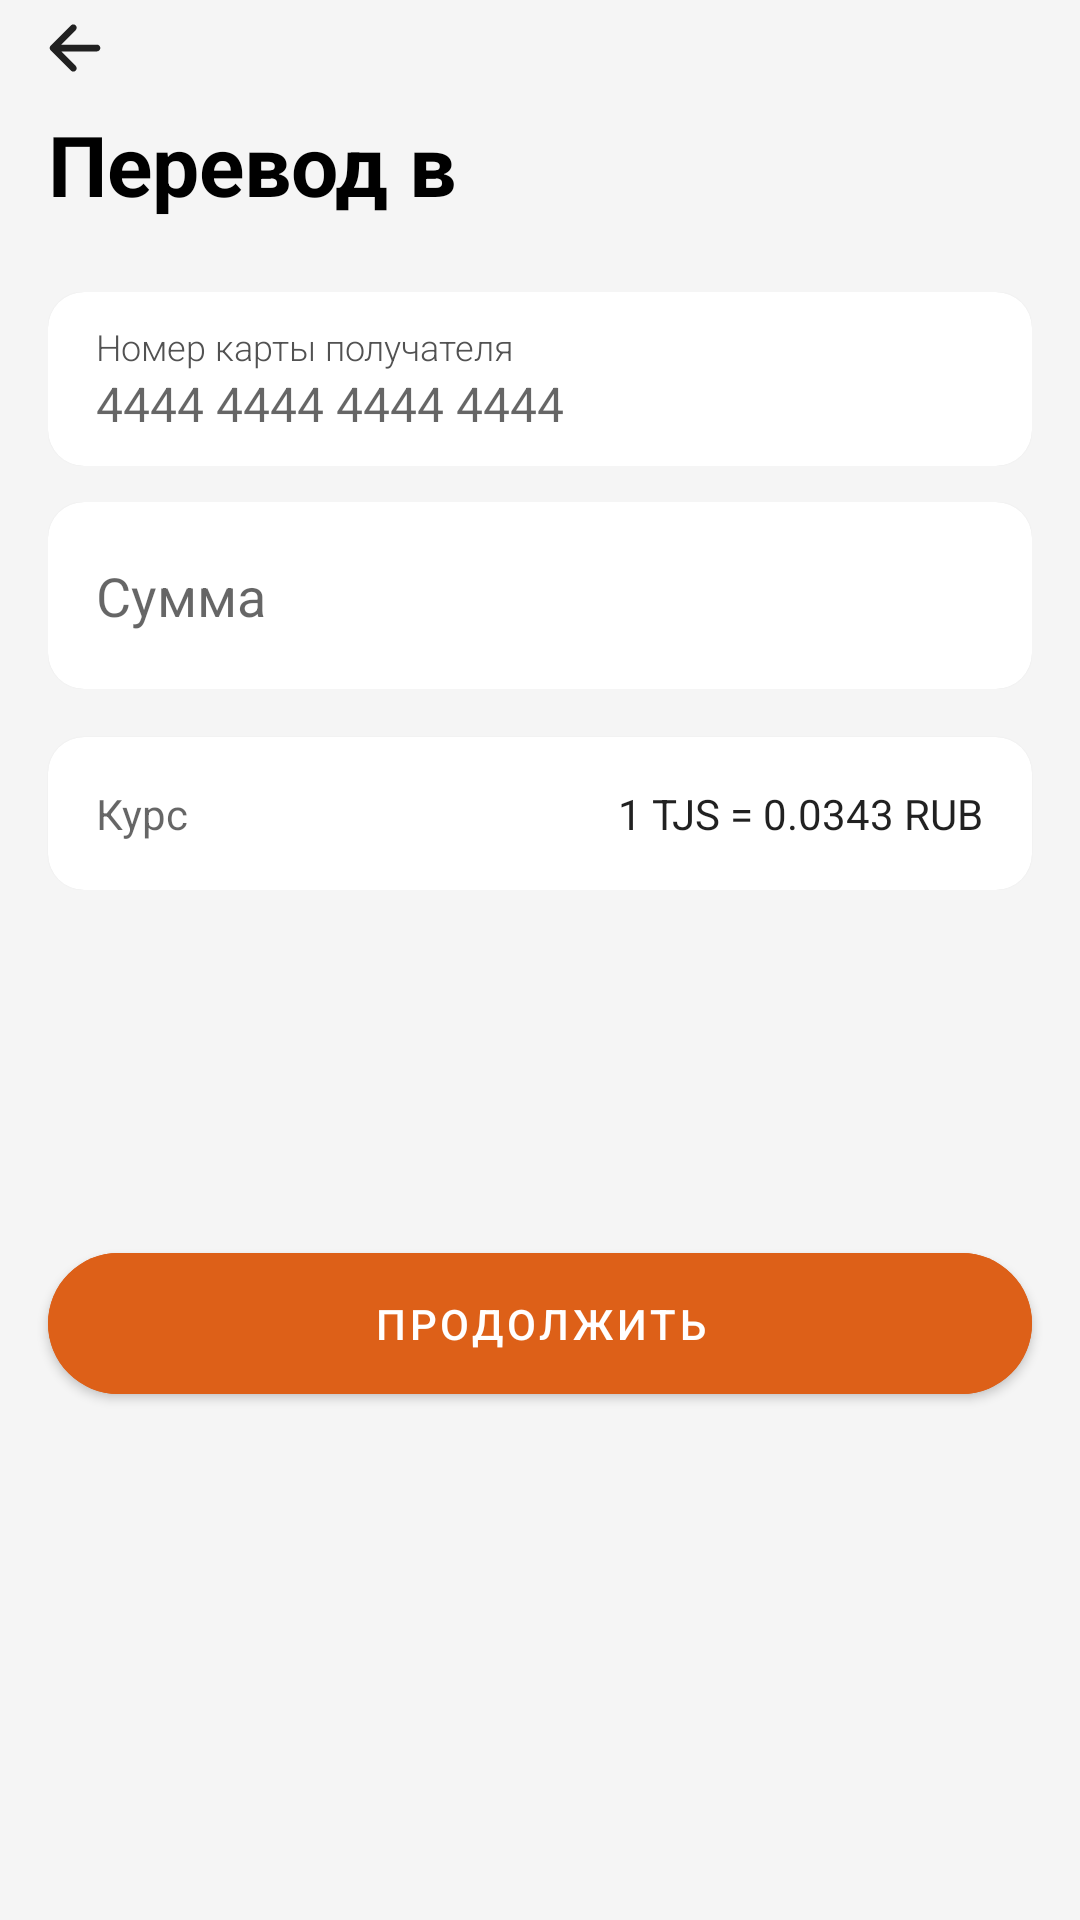

Named icons in this screenshot (1080 × 1920) and their bounding boxes, (x1=x1, y1=y1, x2=x2, y2=y2):
back: (x1=49, y1=24, x2=101, y2=72)
